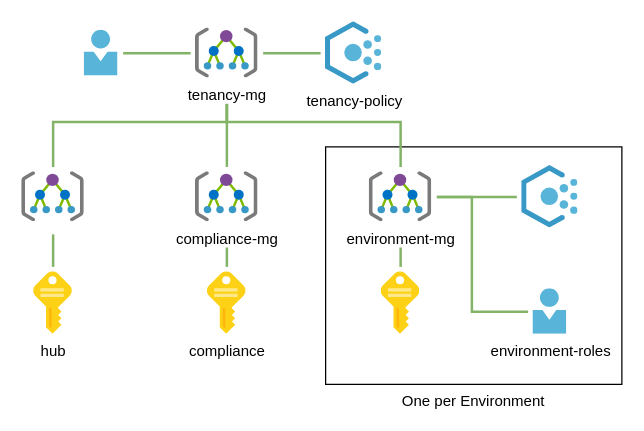
Some shapes in this 644 by 431 pixel diagram are drawn without their labels. Here are the shapes that lost their labels. From the top down, the box of each, then its label:
(84, 30, 118, 75): tenancy-roles
(21, 171, 84, 221): hub-mg
(521, 165, 578, 228): environment-policy
(381, 271, 419, 334): environment
